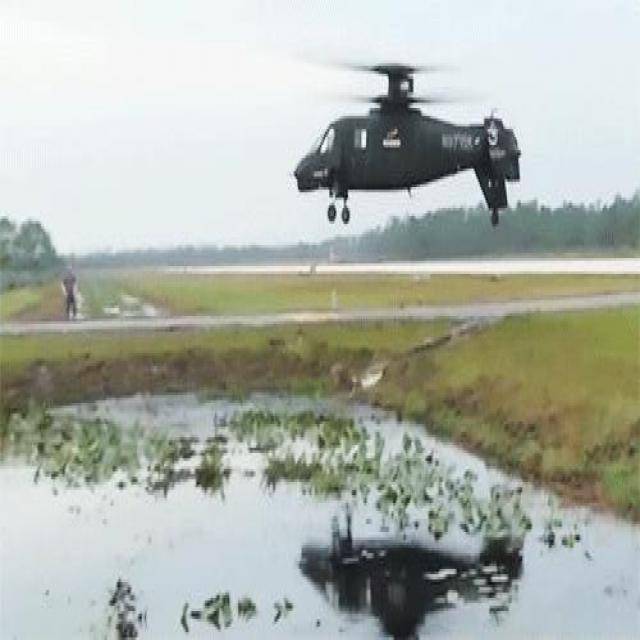MIL_HELO: (272, 34, 521, 240)
